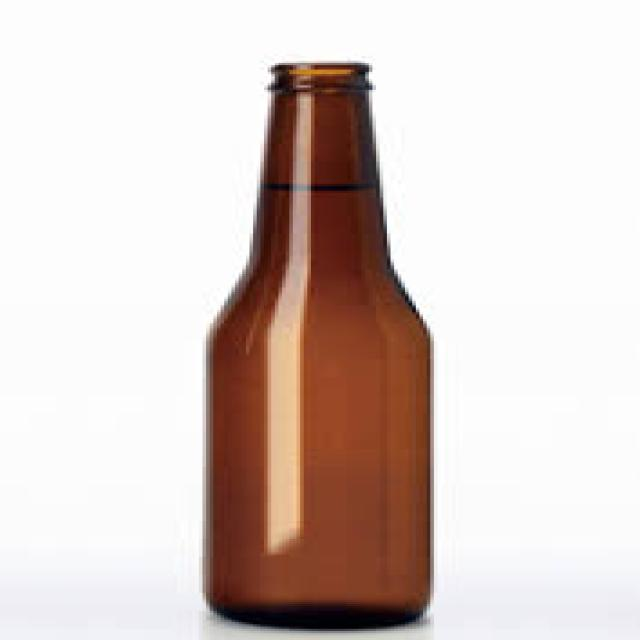glass: (206, 63, 427, 627)
